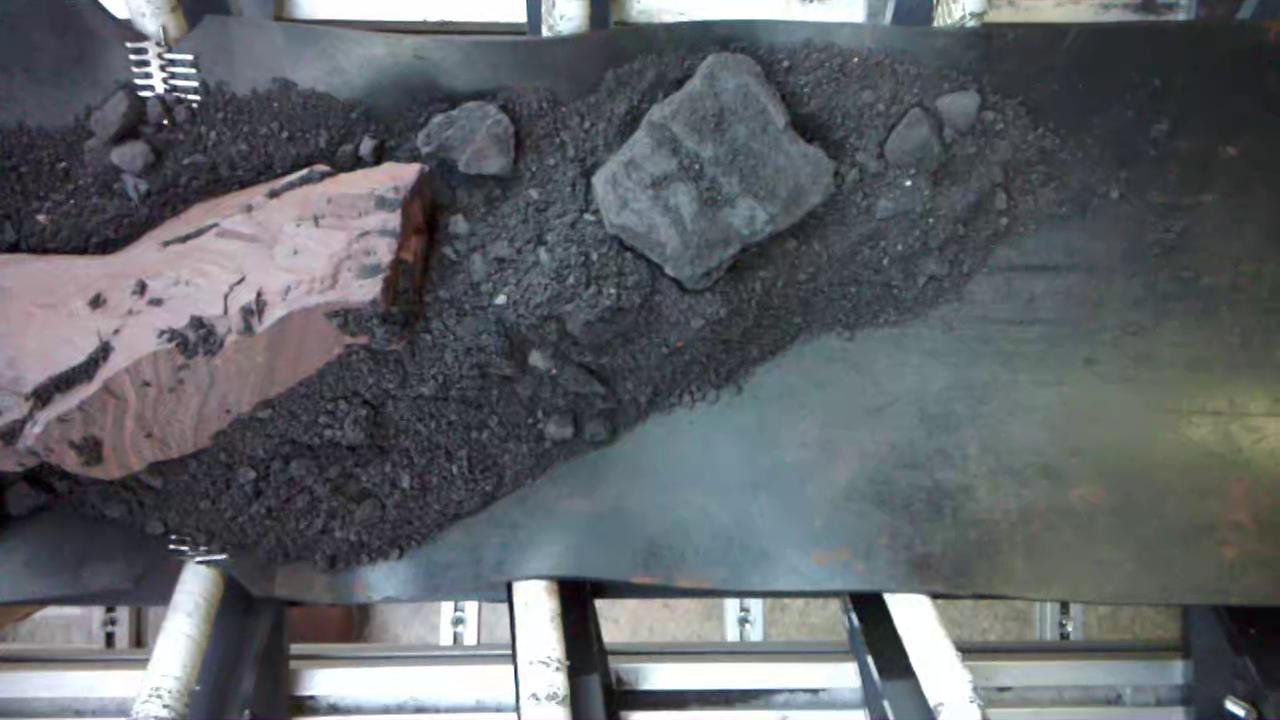conveyor: (5, 40, 1280, 593)
